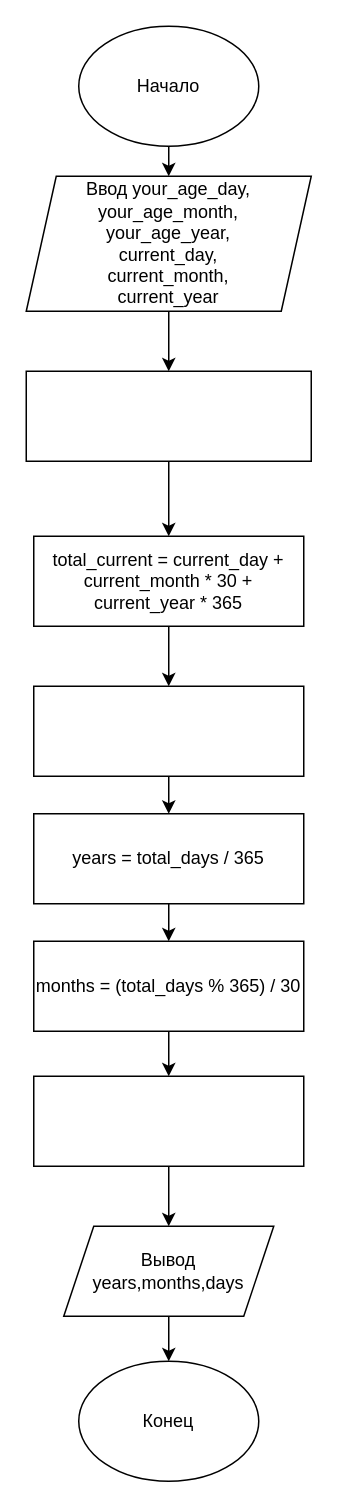
The diagram is 338 pixels wide and 1508 high, and some of its shapes have lost their labels. Each missing label, with the centre of its shape:
"days = (total_days % 365) % 30" goes at (168,1120).
"total_days = total_current - total_your_age" goes at (168,730).
"total_your_age = your_age_day + your_age_month * 30 + your_age_year * 365" goes at (168,415).
